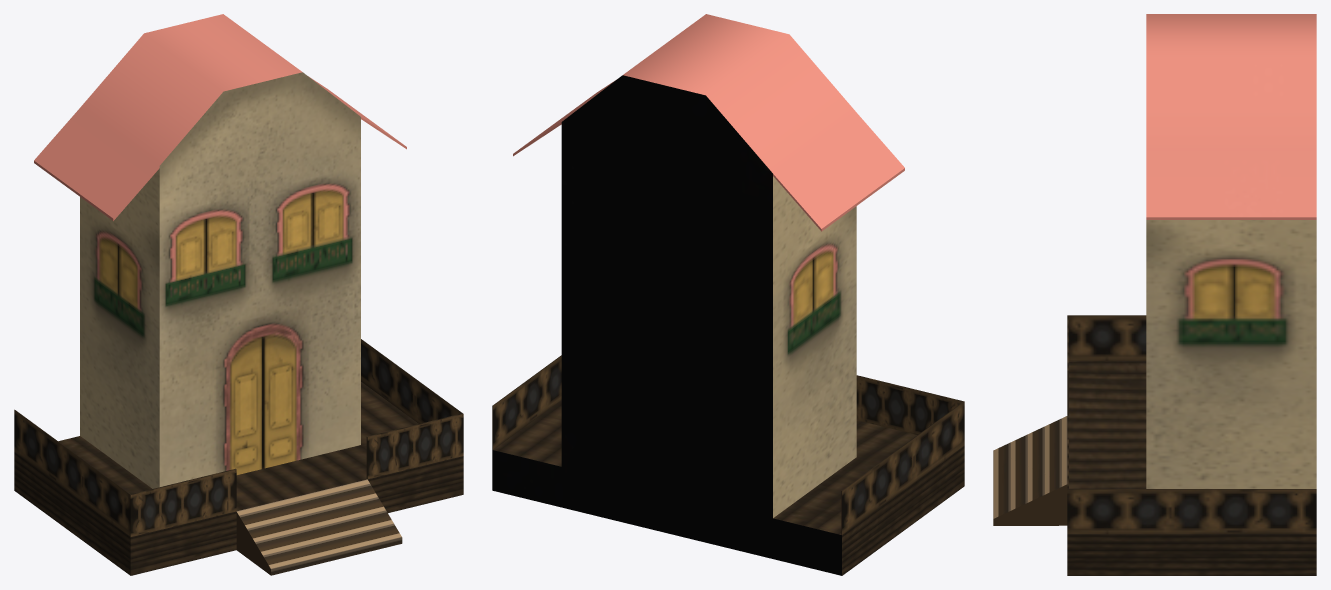
File: Casa_Muñecos.fbx
3 renders of one model, left to right at view 1: azimuth 30°, elevation 25°; view 2: azimuth 150°, elevation 25°; view 3: azimuth 270°, elevation 25°, orthographic. The views are drawn at different scales.
Visible parts, largest first — view 1: pCube1; view 2: pCube1; view 3: pCube1.
Boxes of the visible parts, x1,y1,x2,y2 form: pCube1: [14, 14, 463, 575]; pCube1: [492, 14, 964, 575]; pCube1: [993, 14, 1316, 575].
Size of the model in its own units: 8.92 by 10.91 by 7.01.
1 material, 1 textured.
